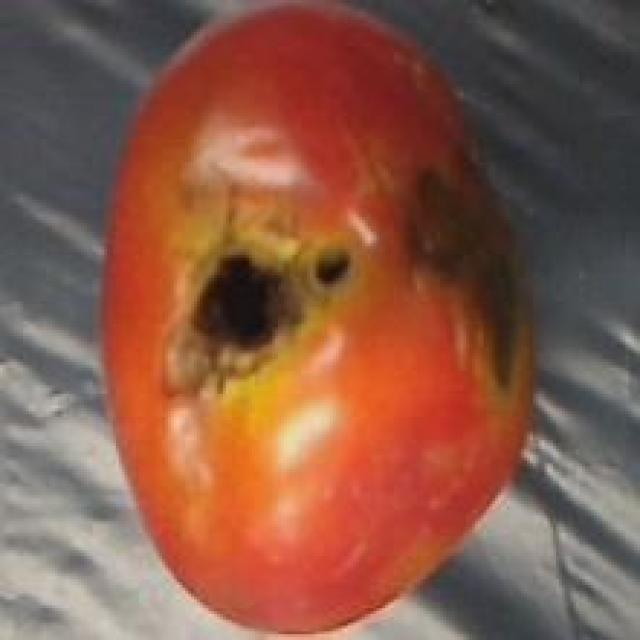overripe tomato: (93, 0, 550, 640)
